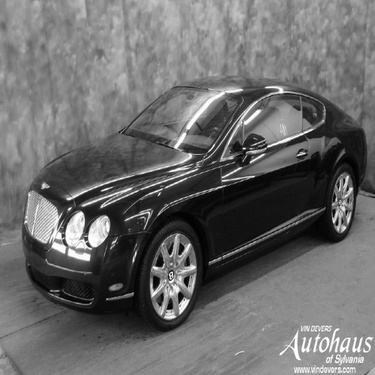car: (13, 65, 368, 333)
